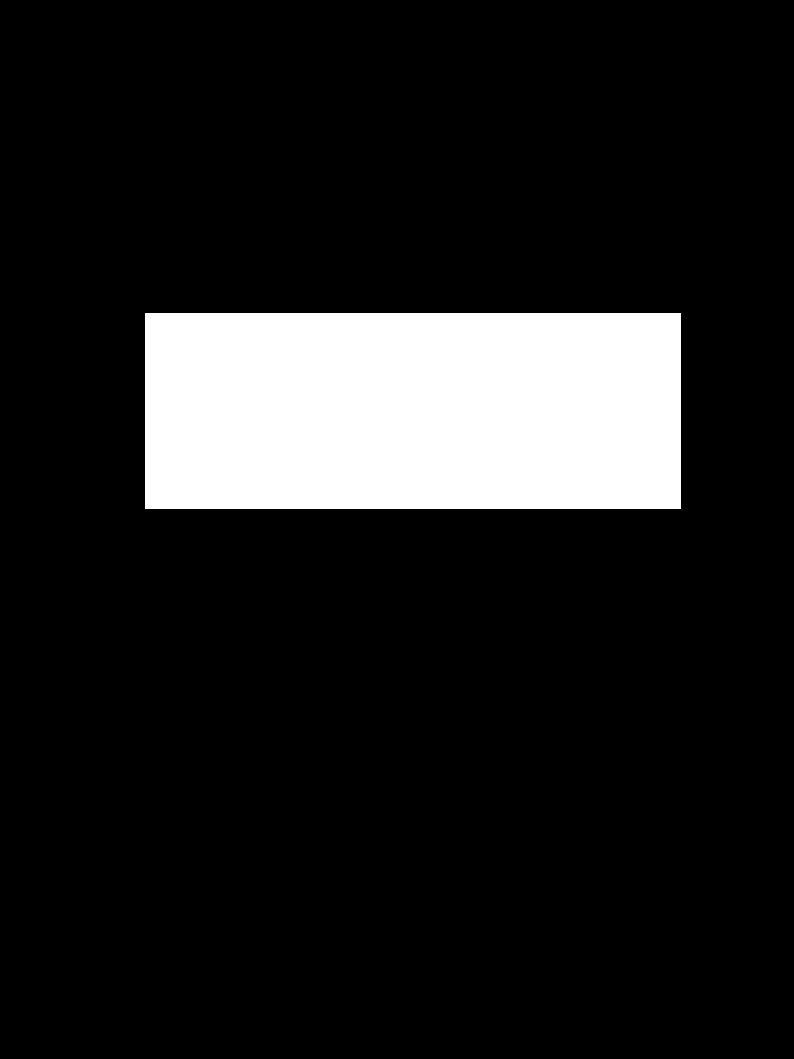table: (145, 313, 680, 508)
